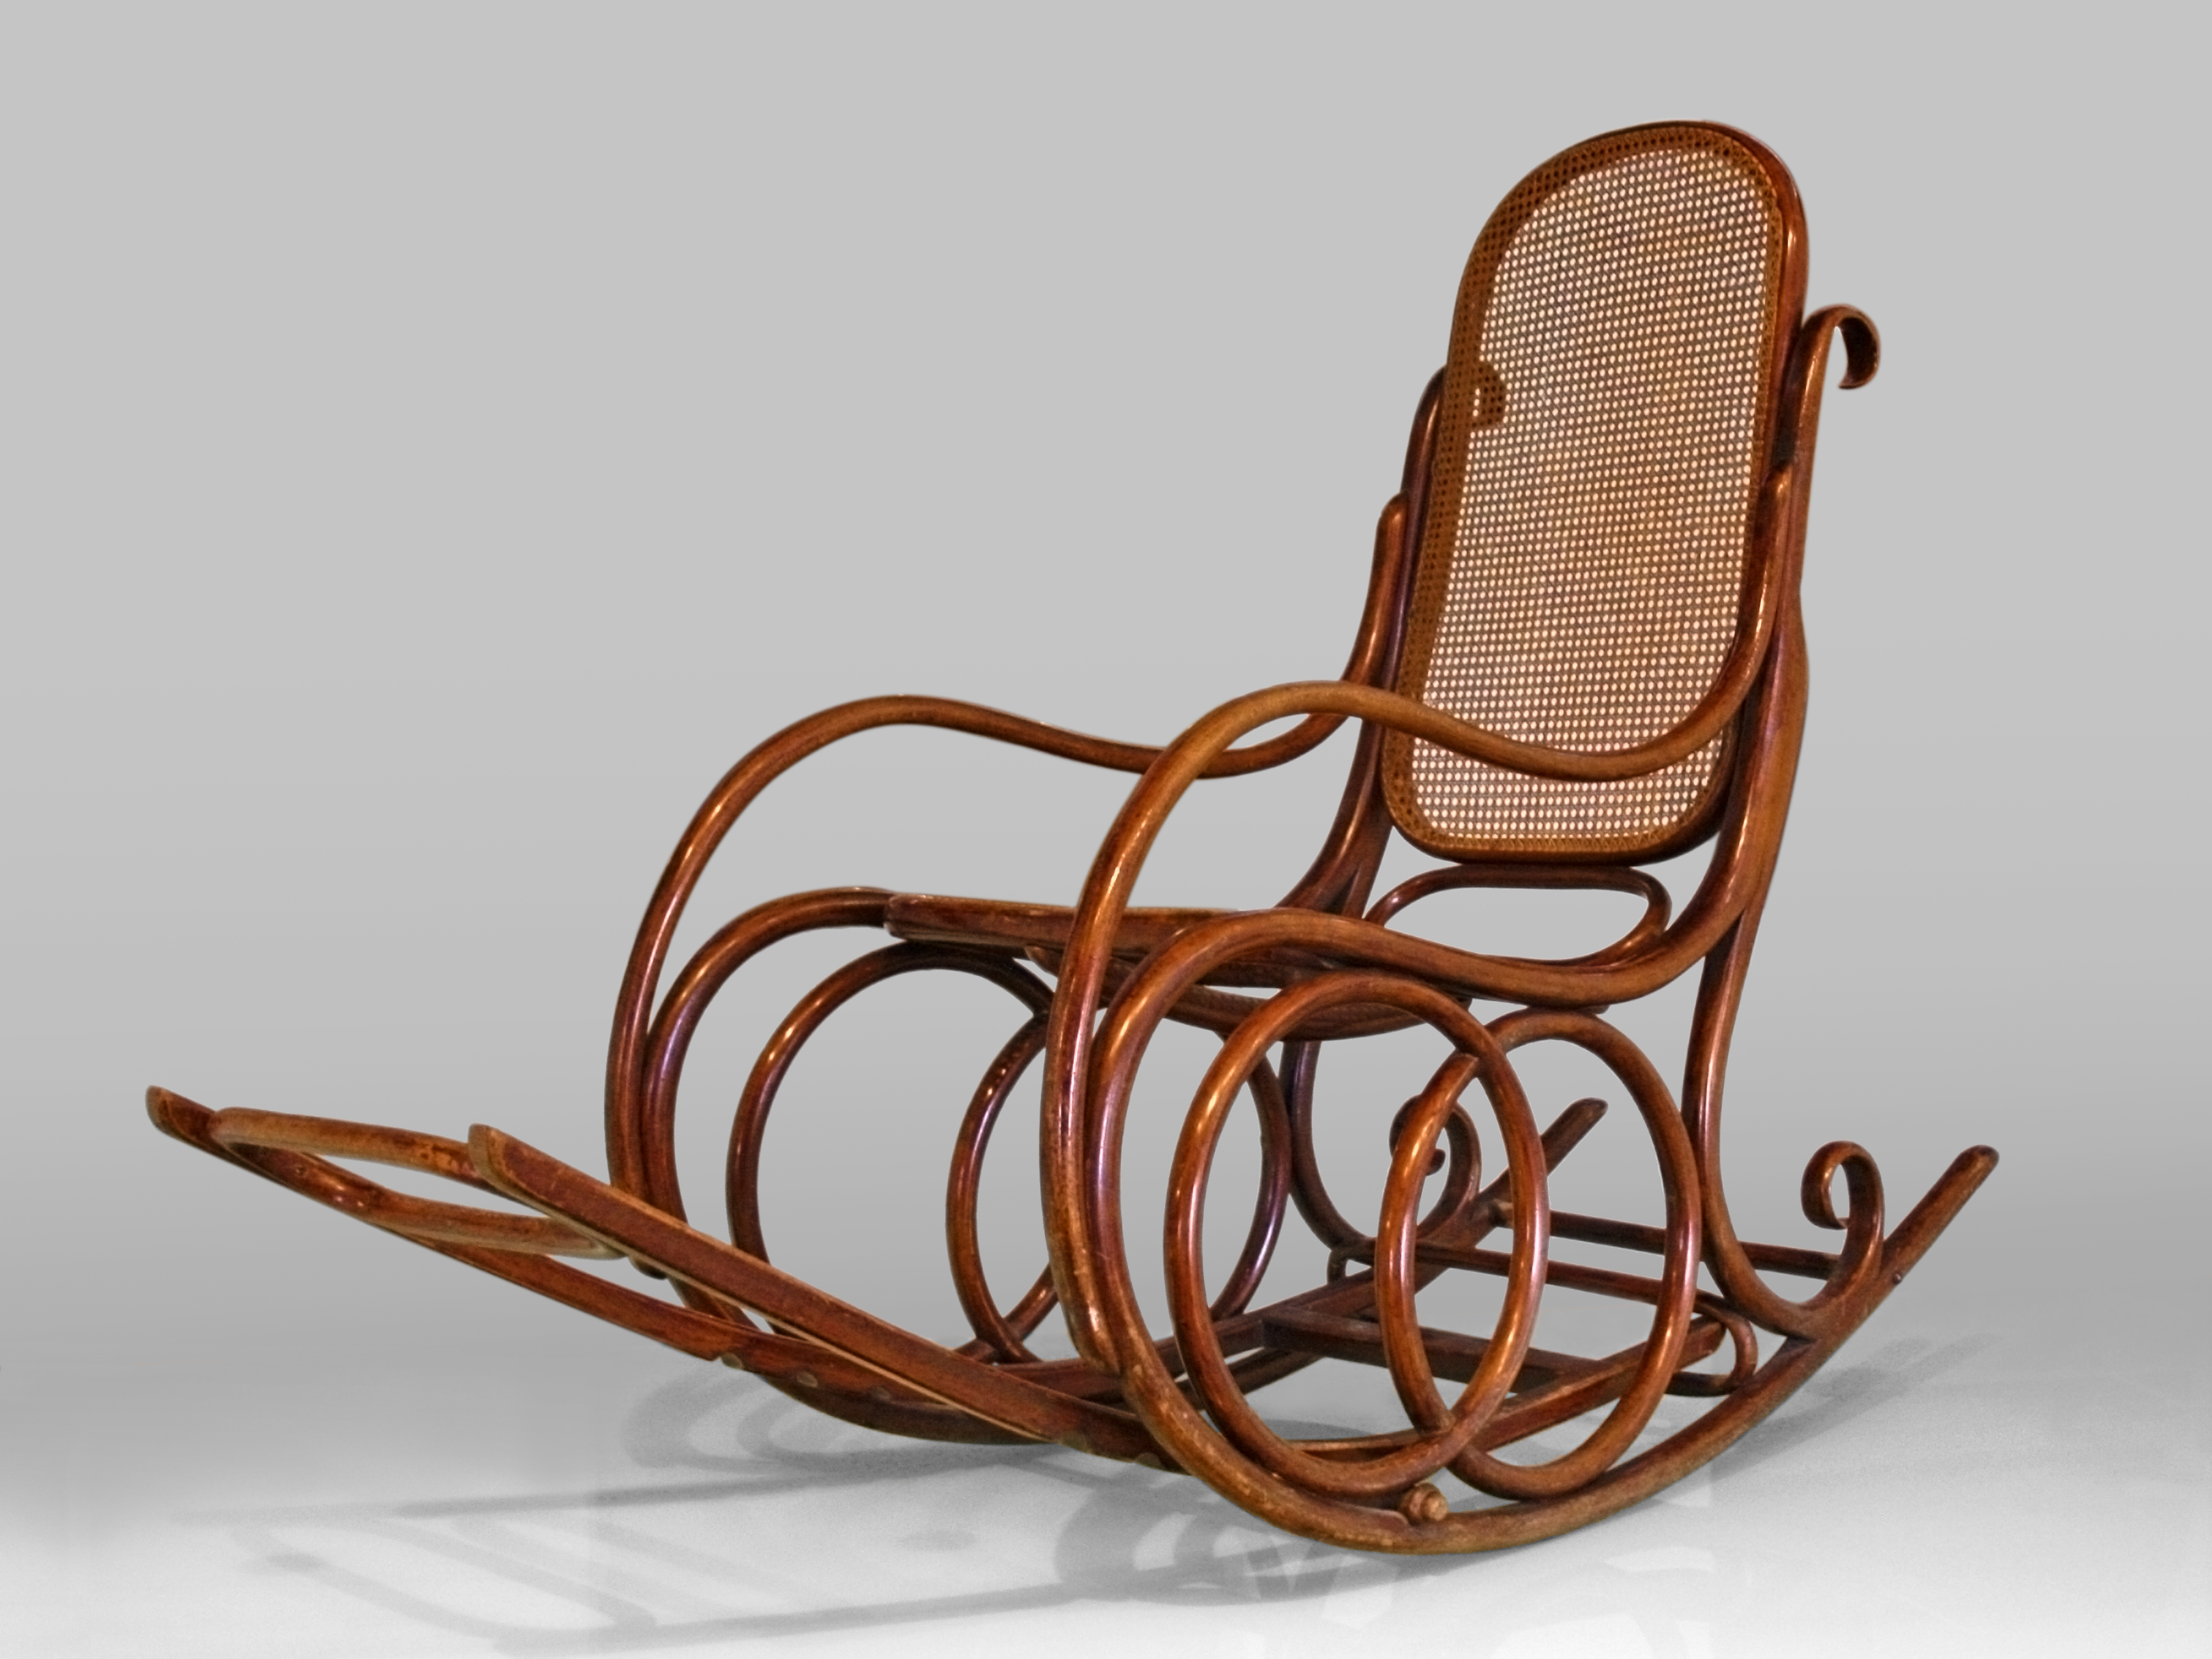chair: (79, 44, 2101, 1622)
